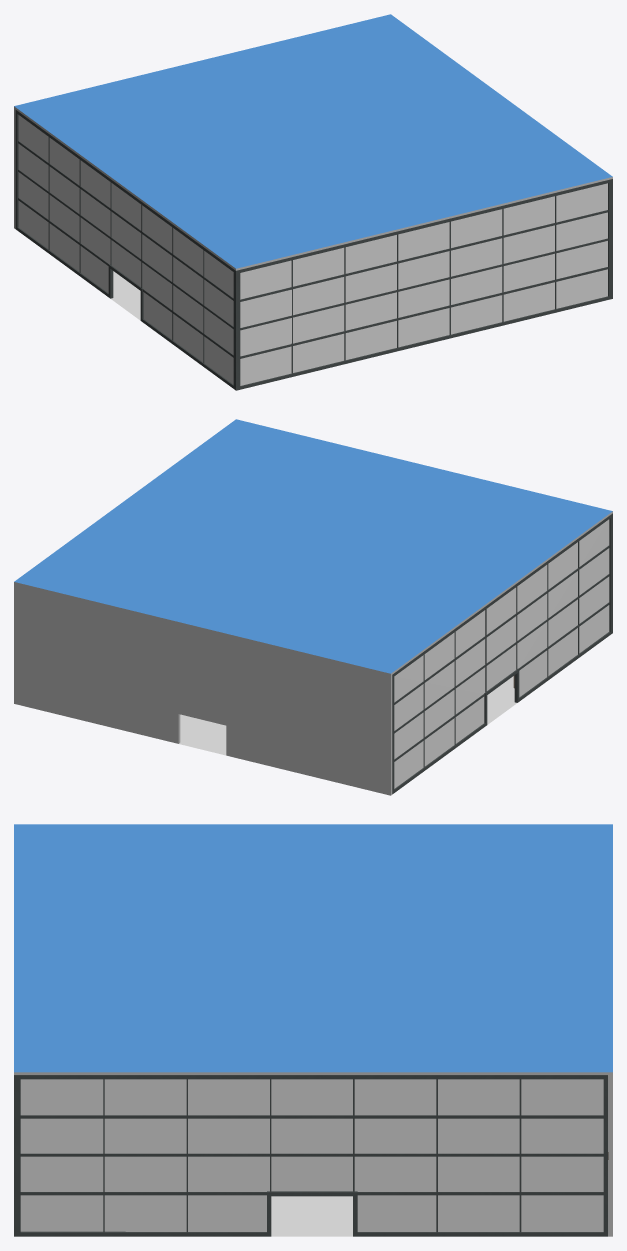
The model's file is Little_squere_build.fbx.
3 renders of one model, top to bottom at view 1: azimuth 30°, elevation 25°; view 2: azimuth 150°, elevation 25°; view 3: azimuth 270°, elevation 25°, orthographic. The views are drawn at different scales.
Parts seen in each view (by area): view 1: Plane.040, Plane.042, Plane.030, Plane.026; view 2: Plane.040, Plane.042, Plane.030, Plane.026; view 3: Plane.040, Plane.042, Plane.026, Plane.030.
Part boxes in pixels (x1,y1,x2,y2): Plane.040: (14,14,612,320); Plane.042: (18,115,607,385); Plane.030: (18,137,608,373); Plane.026: (15,110,612,390); Plane.040: (14,419,612,795); Plane.042: (394,519,609,788); Plane.030: (394,541,609,767); Plane.026: (392,513,612,794); Plane.040: (14,824,612,1236); Plane.042: (20,1079,603,1231); Plane.026: (14,1075,608,1236); Plane.030: (20,1079,603,1232).
Size of the model in its own units: 3952 by 1222 by 4035.
